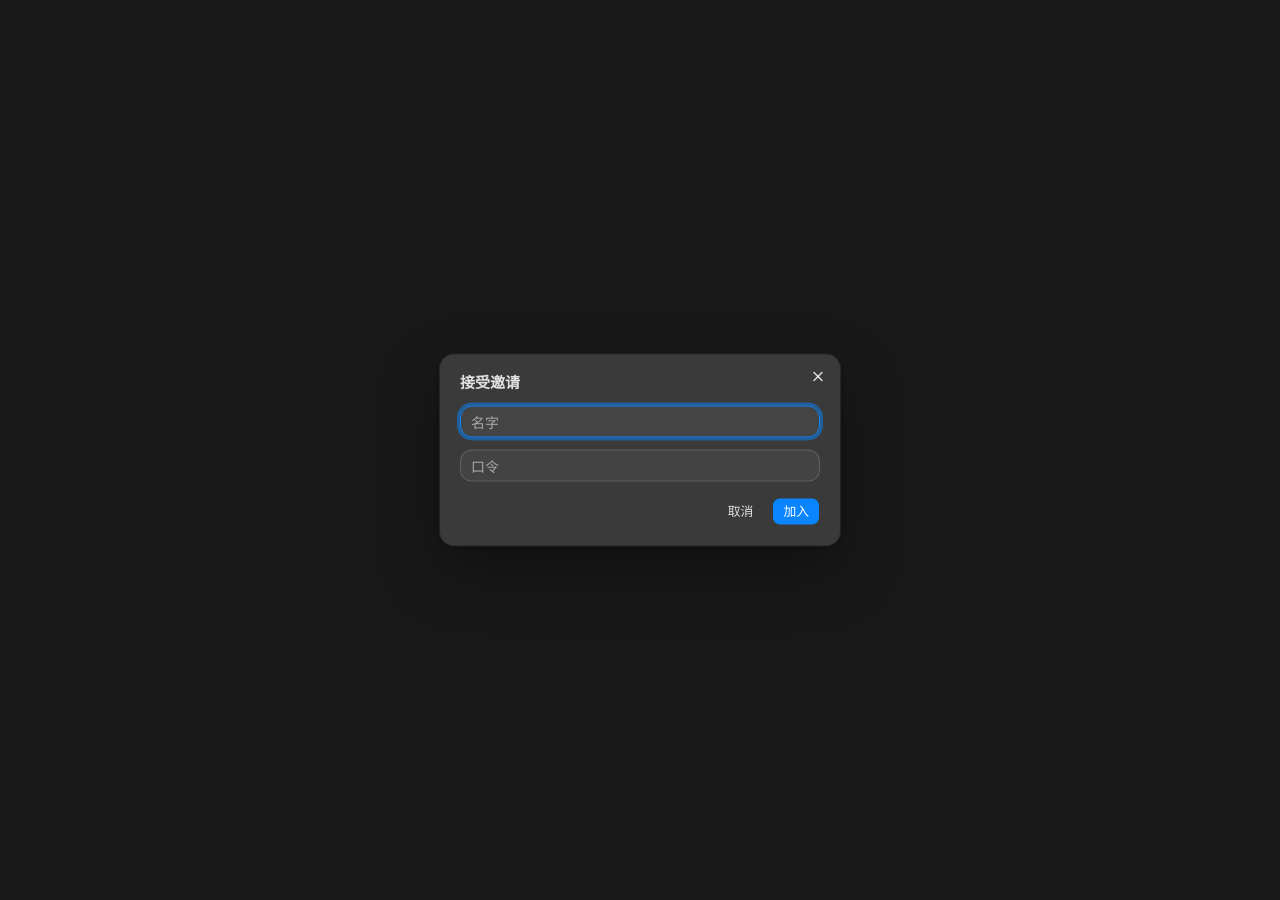
Scenario: 设置 → 账号与共享 › 地址栏带着邀请时弹出兑换对话框，兑换后进入自己的账号
The width and height of the screenshot is (1280, 900).
Expected: the heading "接受邀请" is shown, left=460, top=372, right=520, bottom=392
Step 1. Type "新同事" into the field labelled "名字" → {"x": 640, "y": 422}, box left=460, top=406, right=820, bottom=438
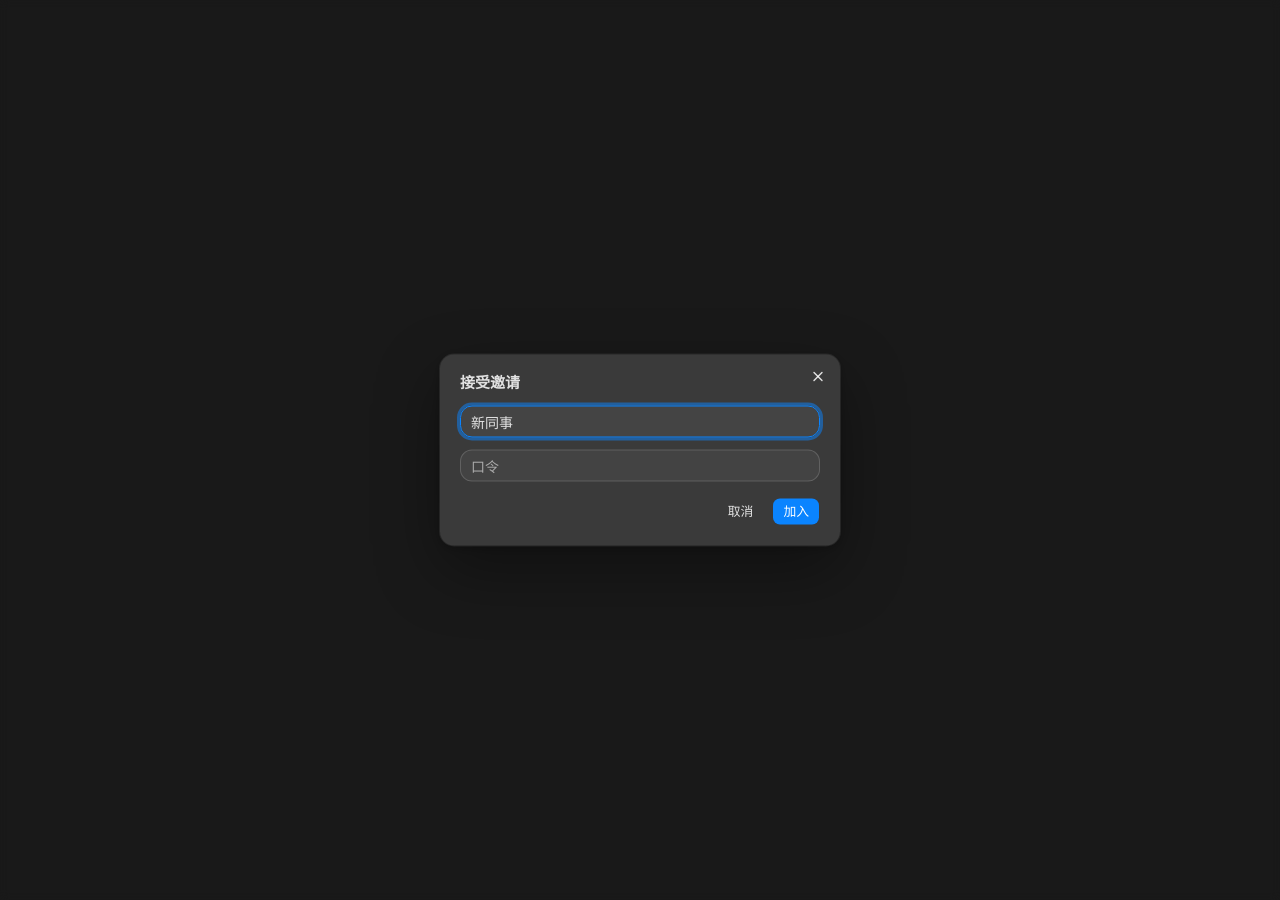
Step 2. Type "correct horse battery" into the password field labelled "口令" → {"x": 640, "y": 466}, box left=460, top=450, right=820, bottom=482
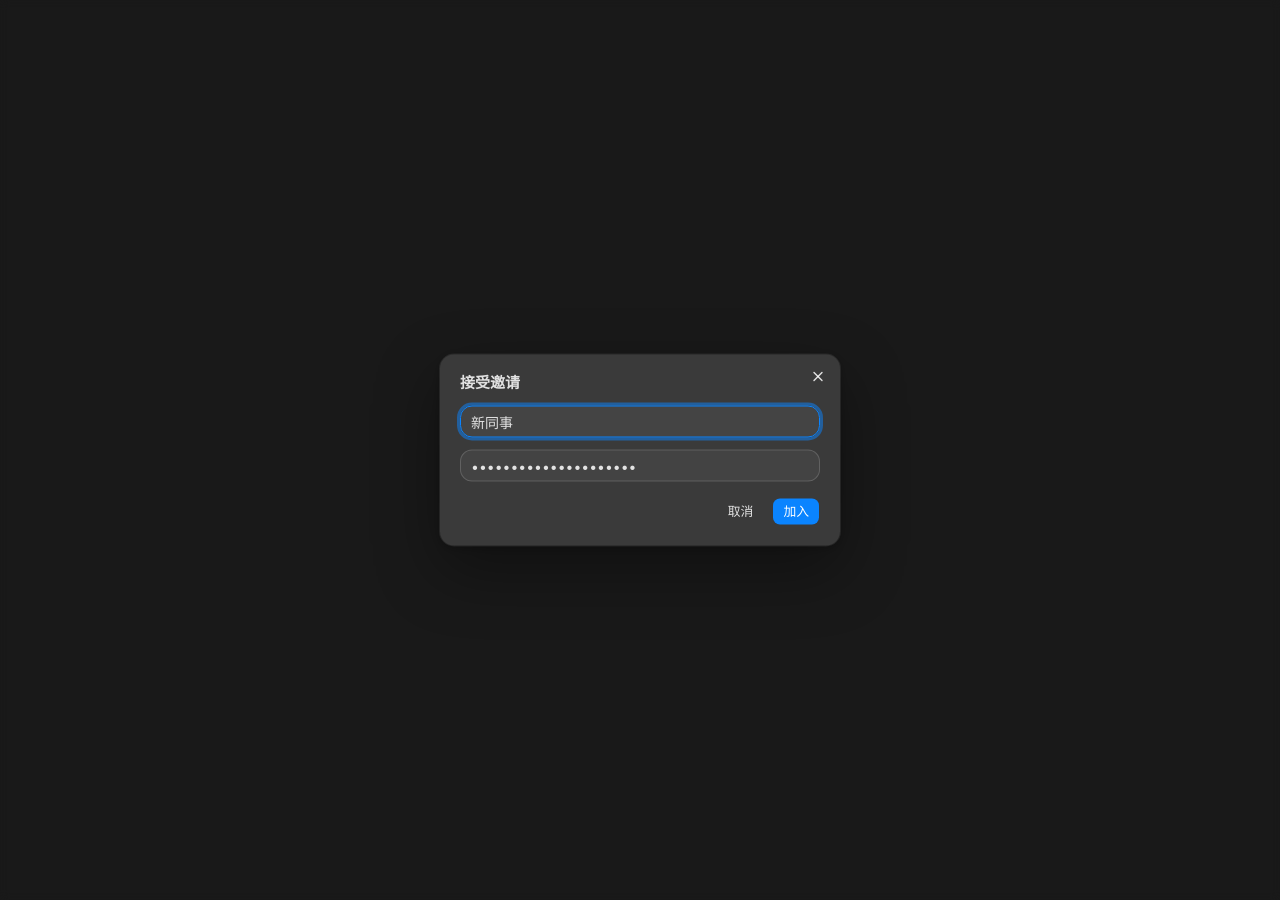
Step 3. Click the button "加入" → {"x": 796, "y": 512}, box left=772, top=498, right=820, bottom=526
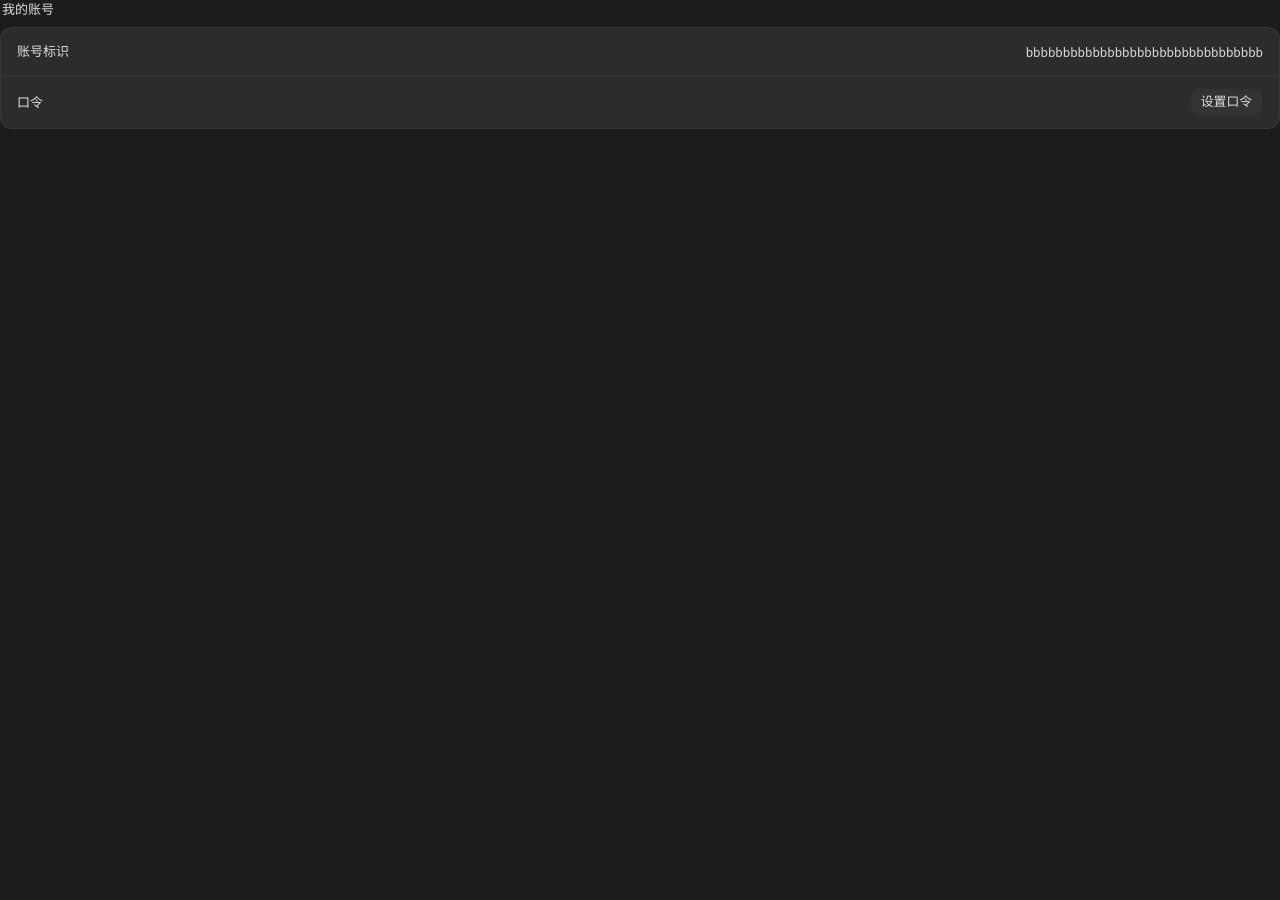
Expected: the heading "我的账号" is shown, left=2, top=1, right=54, bottom=17
